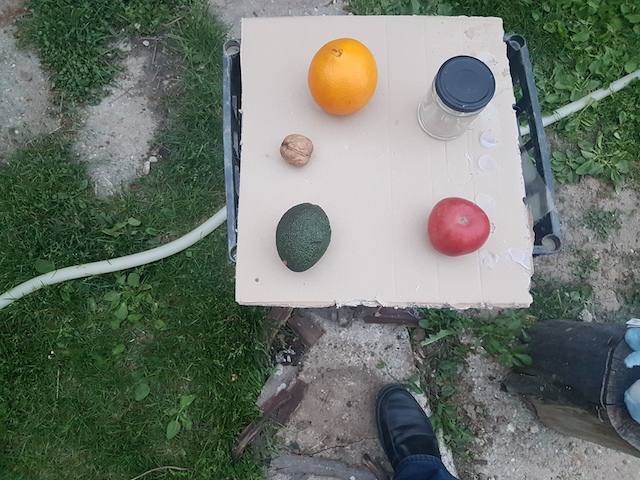apple: (427, 196, 492, 258)
avocado: (272, 201, 330, 277)
nut: (276, 131, 313, 165)
orange: (306, 35, 378, 118)
recipient: (434, 52, 497, 116)
